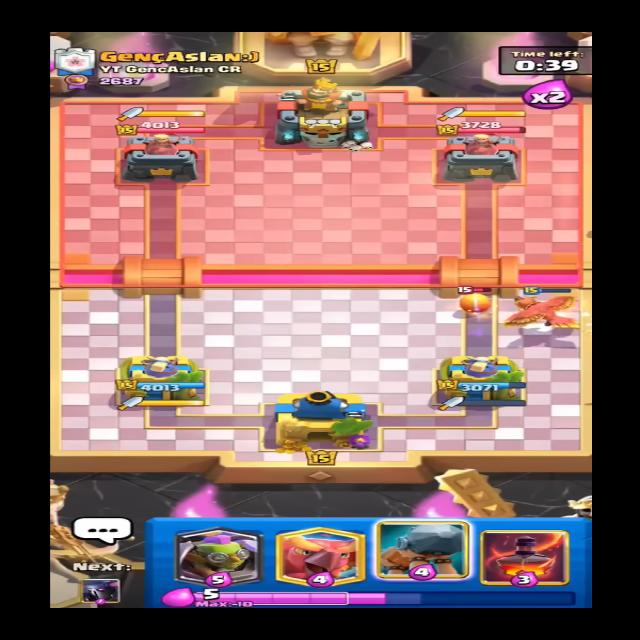phoenix-egg: (447, 284, 497, 316)
